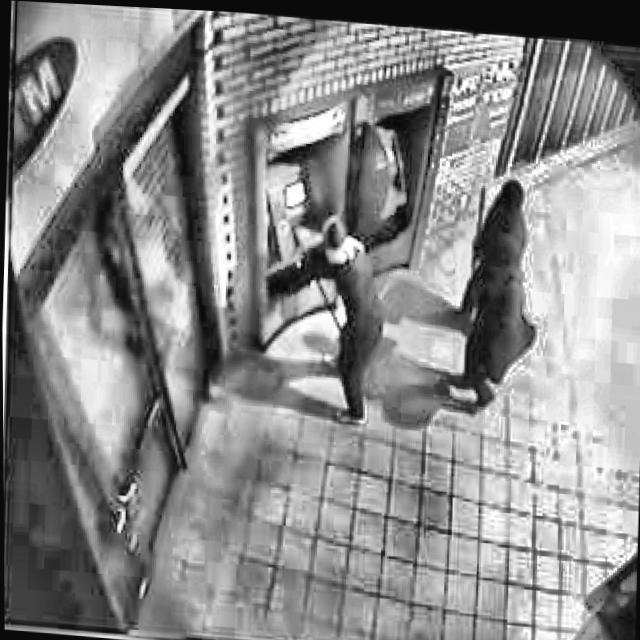burglary: (258, 103, 418, 427), (426, 165, 545, 415)
